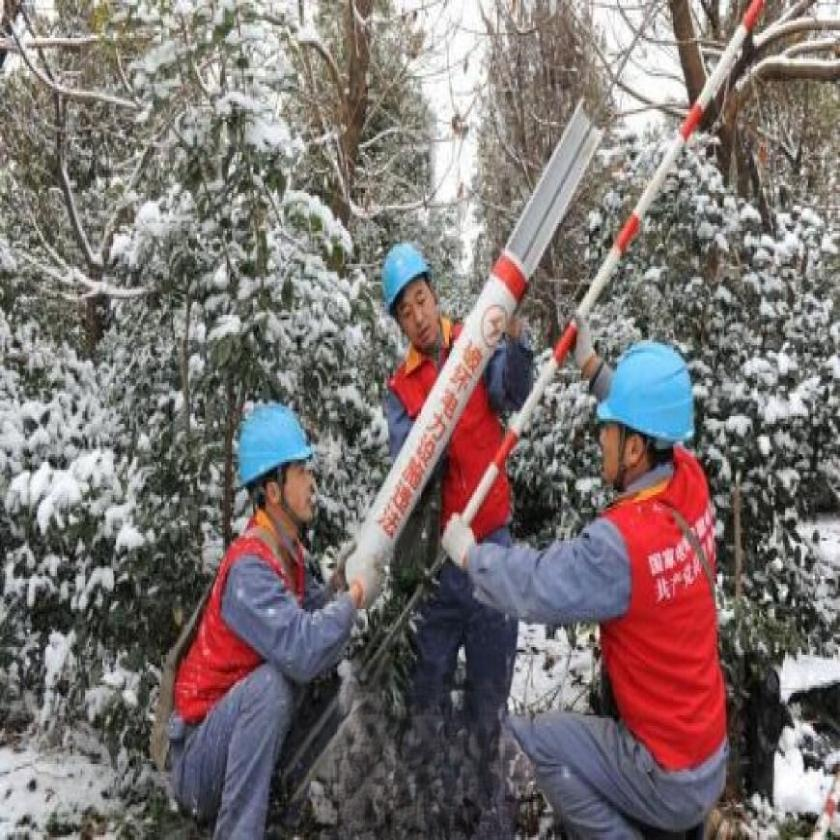Con_casco: (592, 334, 697, 490), (224, 386, 328, 528), (374, 239, 448, 352)
